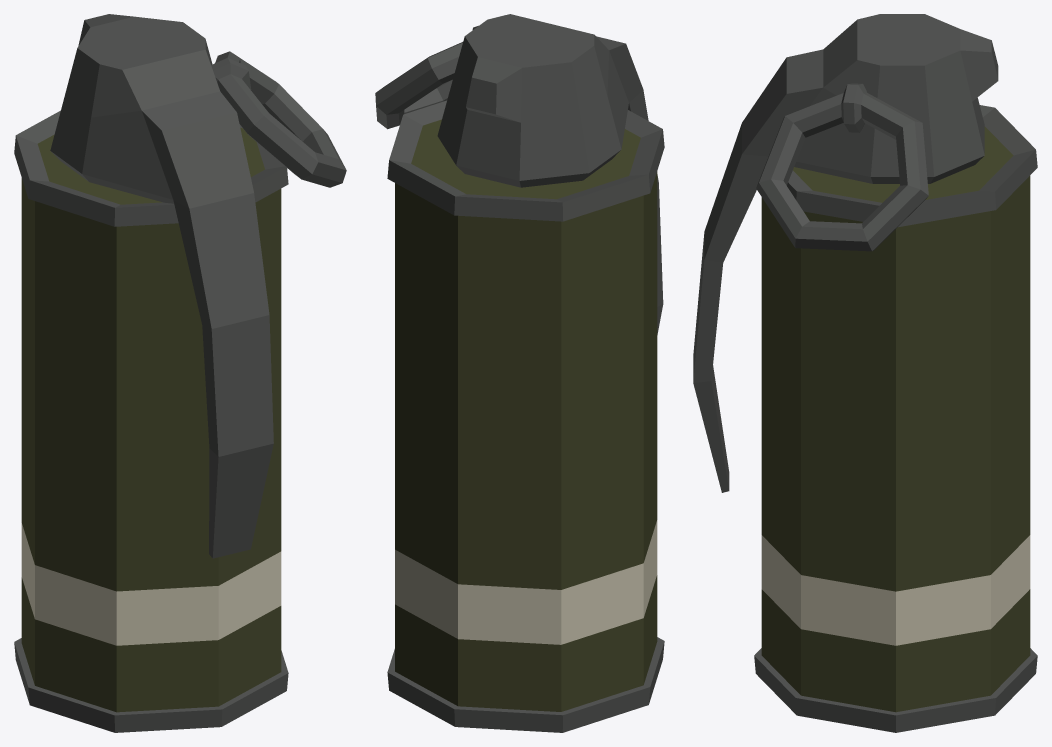
Rendered from LPWarPack_SmokeGrenade.fbx.
The picture shows the model from 3 angles, left to right: view 1: azimuth 30°, elevation 25°; view 2: azimuth 150°, elevation 25°; view 3: azimuth 270°, elevation 25°; orthographic projection.
Parts seen in each view (by area): view 1: SmokeGrenade; view 2: SmokeGrenade; view 3: SmokeGrenade.
Boxes of the visible parts, x1,y1,x2,y2 form: SmokeGrenade: (14,14,346,732); SmokeGrenade: (375,14,664,732); SmokeGrenade: (693,14,1037,732).
Bounding box in the file's own units: 8.43 × 17.83 × 8.83.
